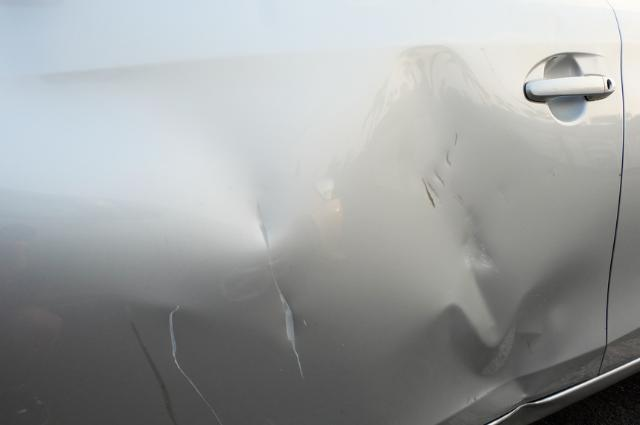Door: (108, 15, 612, 425)
